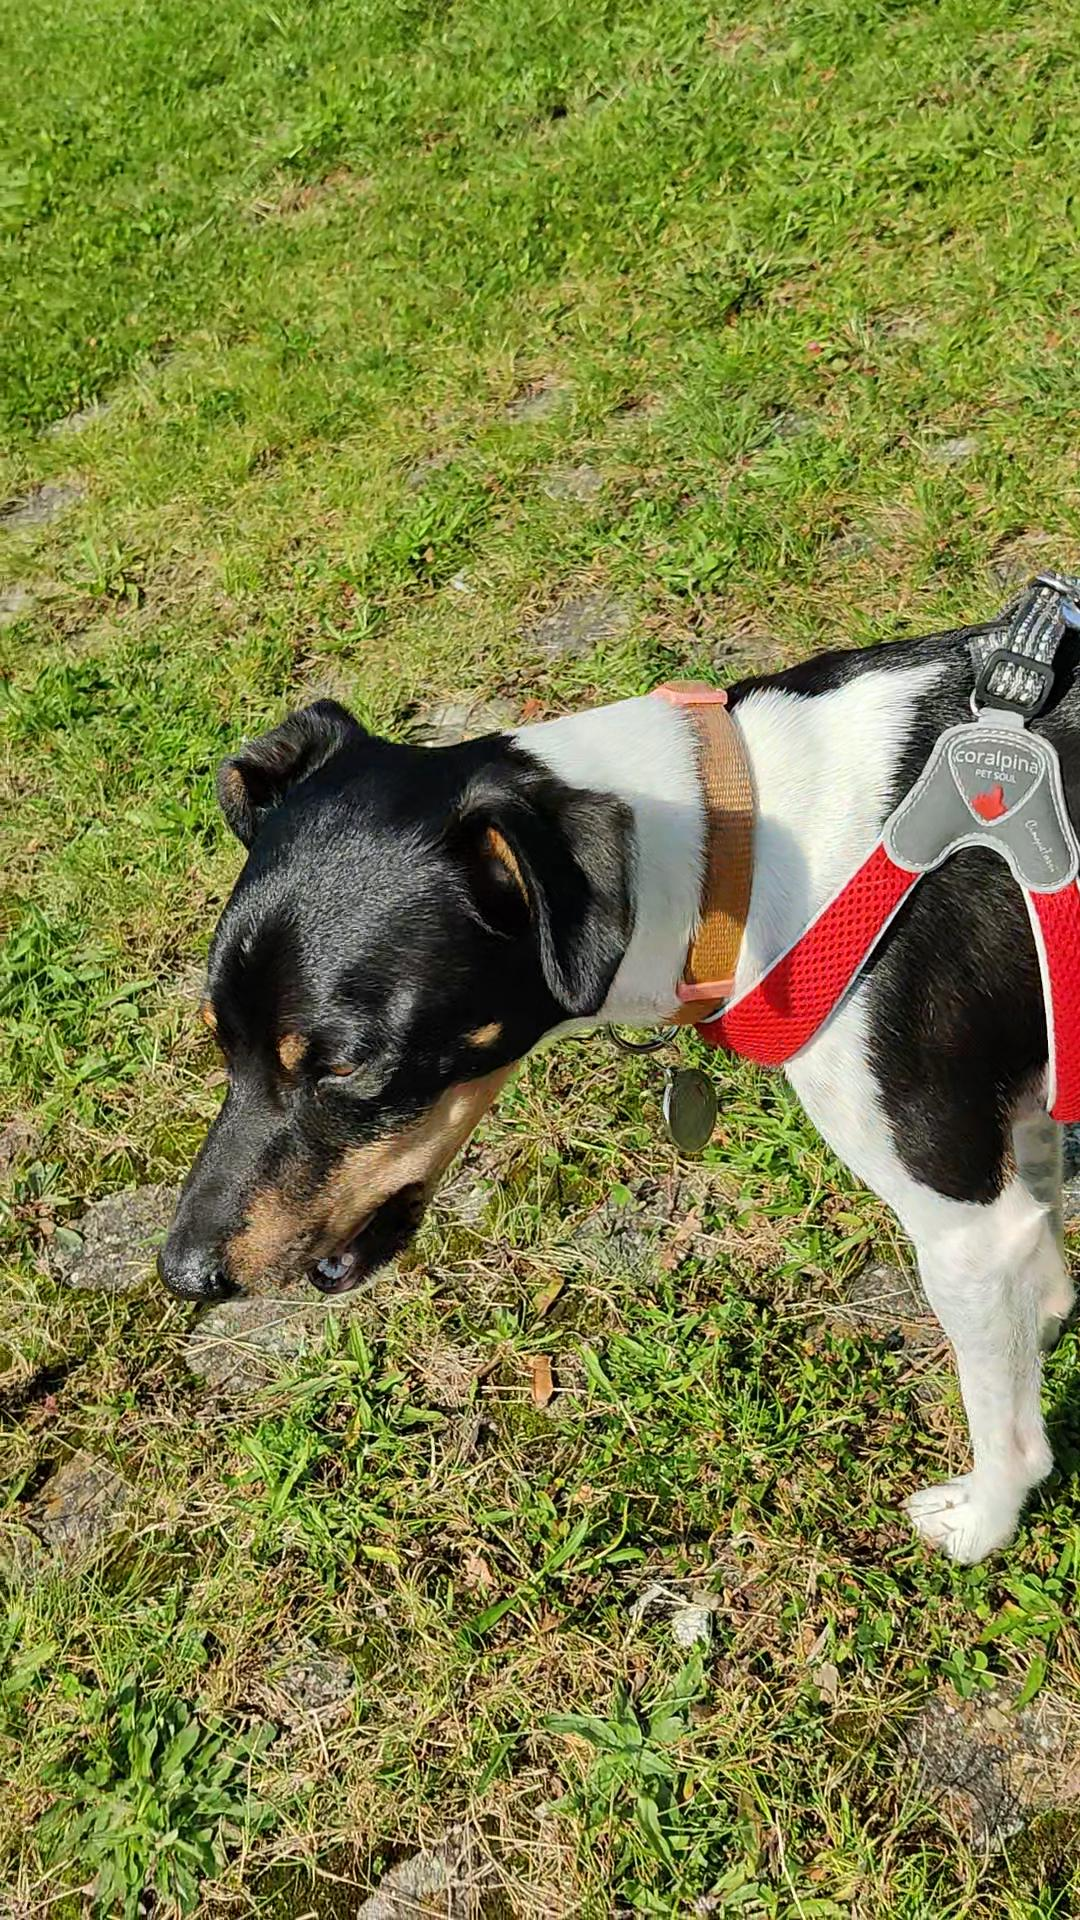Dog: (131, 524, 1079, 1643)
